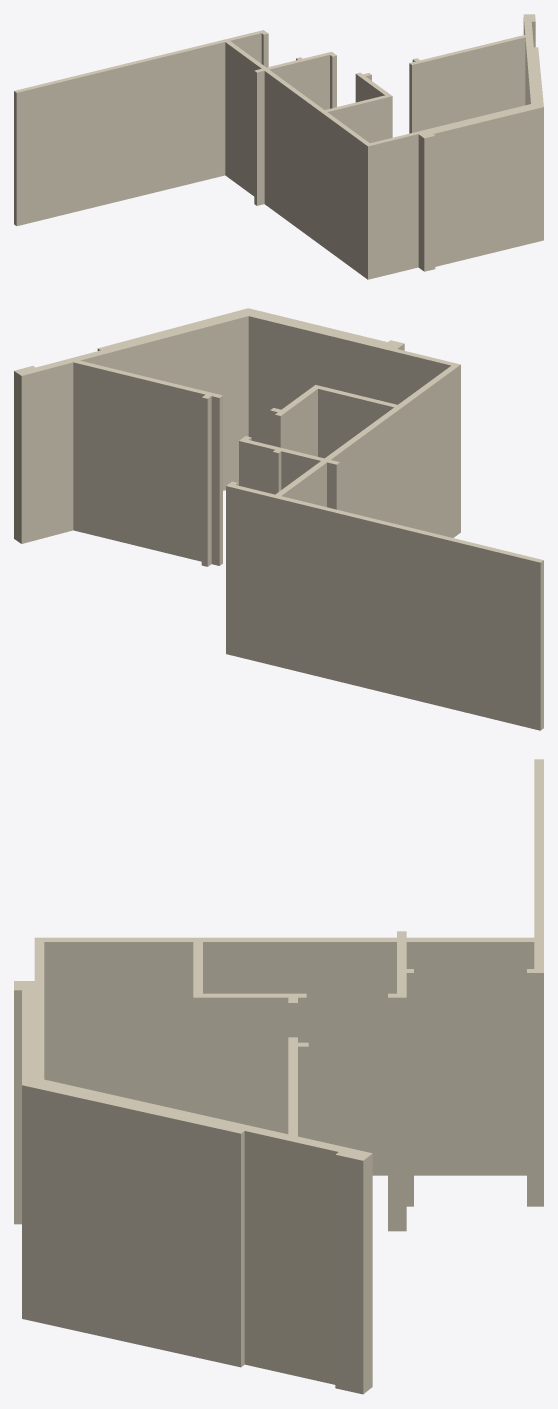
3 renders of one model, top to bottom at view 1: azimuth 30°, elevation 25°; view 2: azimuth 150°, elevation 25°; view 3: azimuth 270°, elevation 25°, orthographic. The views are drawn at different scales.
Parts seen in each view (by area): view 1: B-GF-WALL-006; view 2: B-GF-WALL-006; view 3: B-GF-WALL-006.
Boxes of the visible parts, x1=… form: B-GF-WALL-006: x1=14, y1=14, x2=543, y2=279; B-GF-WALL-006: x1=14, y1=308, x2=543, y2=730; B-GF-WALL-006: x1=14, y1=759, x2=543, y2=1394.
Bounding box in the file's own units: 8.91 × 2.42 × 4.97.
